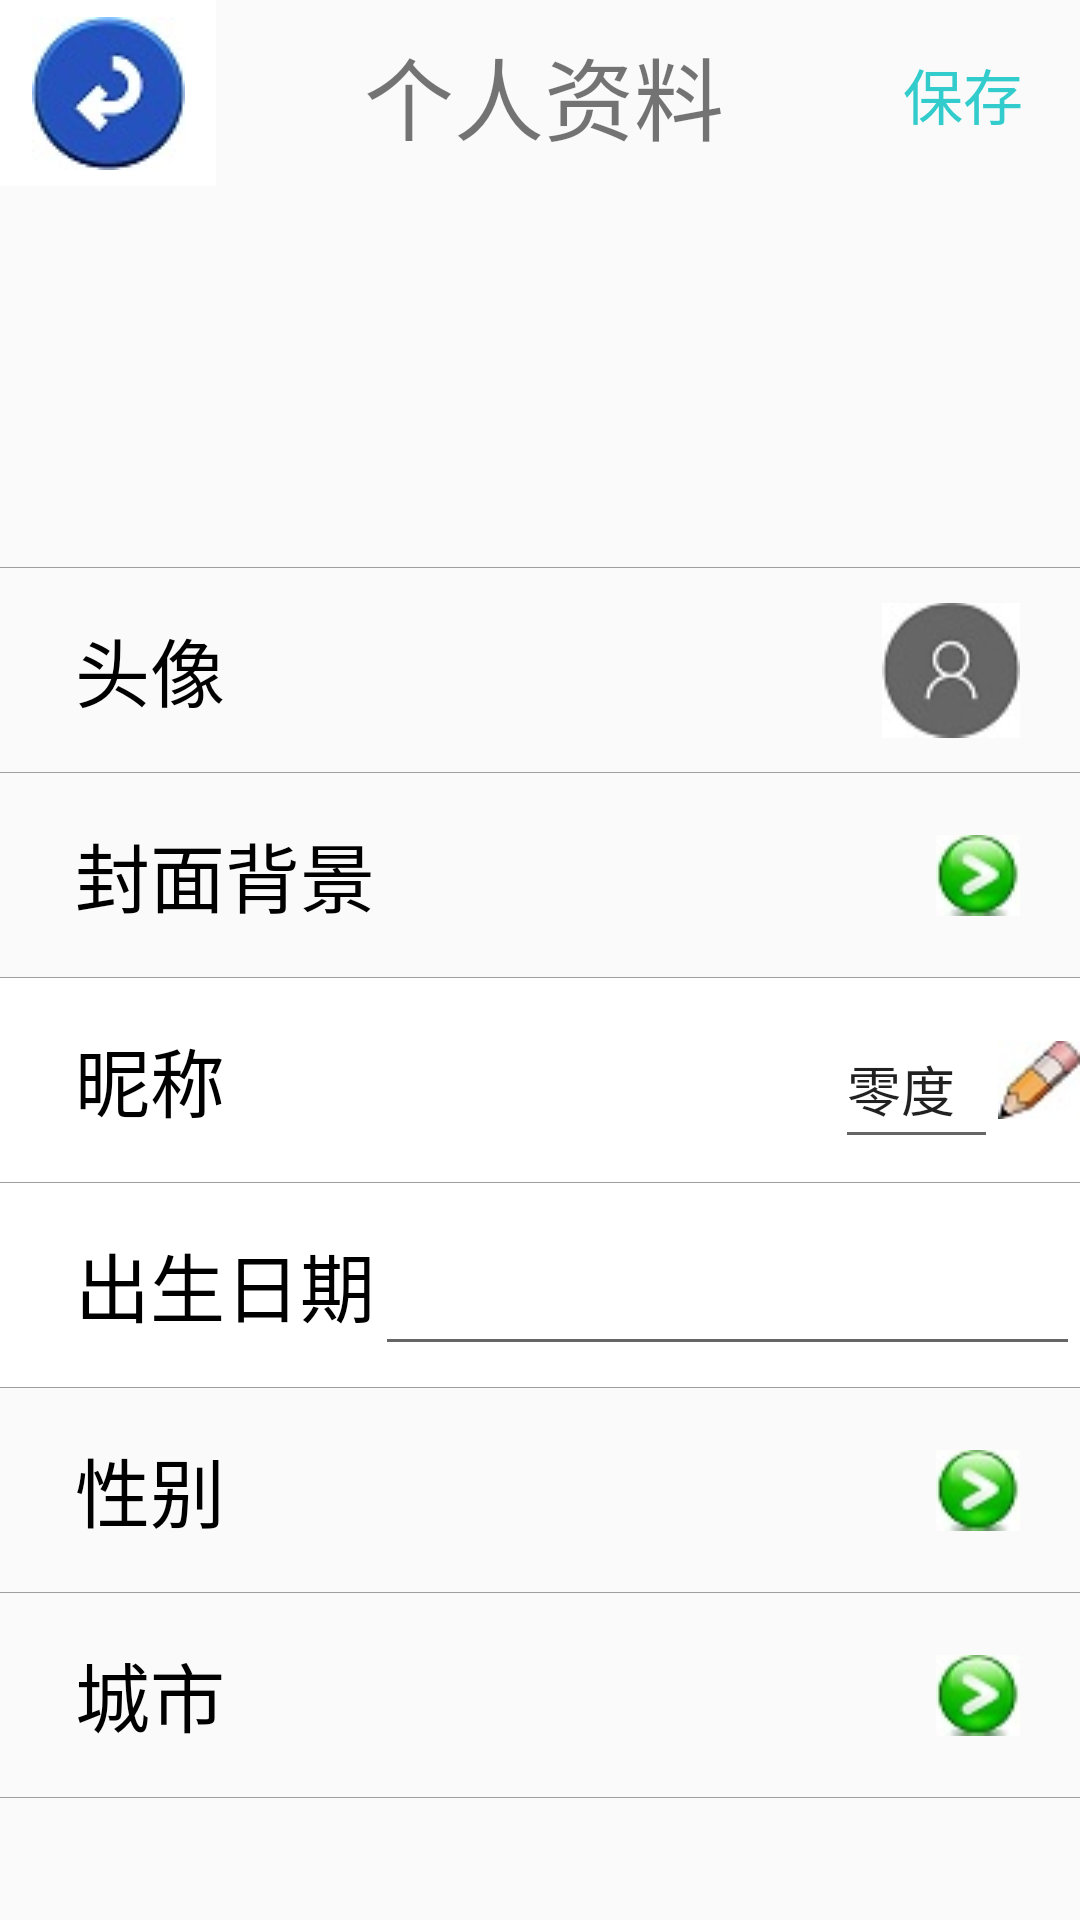

Icon bounding boxes for this 1080×1920 phone screenshot, format region(x1, y1, x2, y2):
bixiao: region(998, 1041, 1080, 1119)
dayu: region(936, 835, 1018, 916), region(936, 1450, 1018, 1531), region(936, 1655, 1018, 1736)
fanhui: region(32, 17, 185, 170)
touxiangxiao: region(882, 603, 1020, 738)
